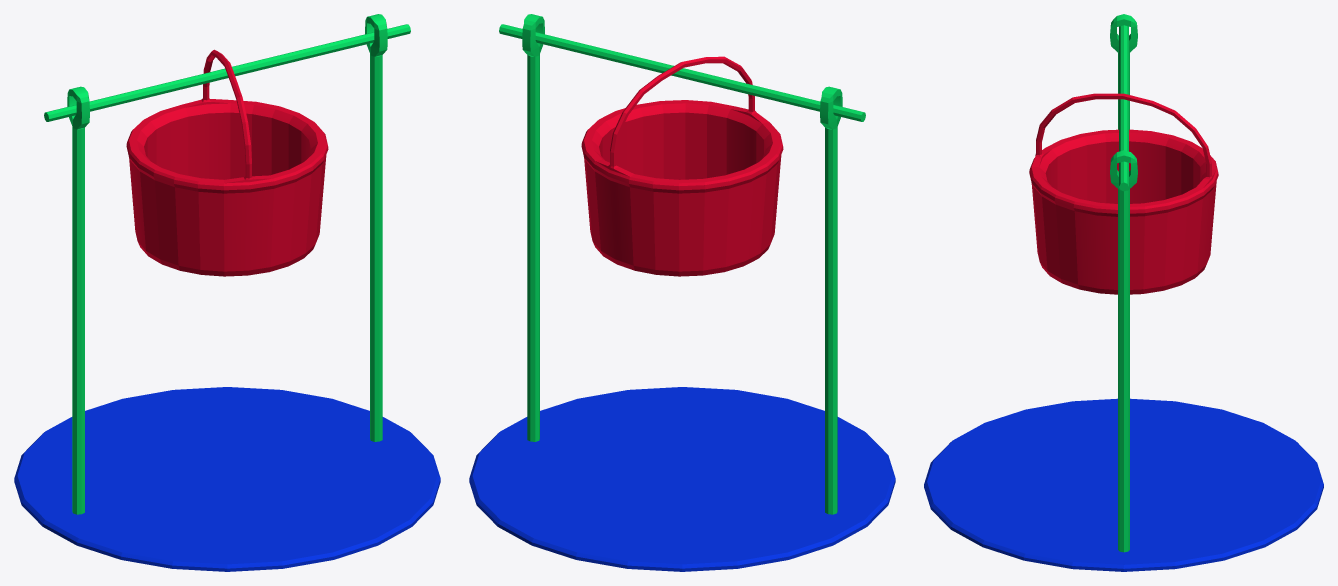
The model's file is feuerstelle.fbx.
The picture shows the model from 3 angles, left to right: view 1: azimuth 30°, elevation 25°; view 2: azimuth 150°, elevation 25°; view 3: azimuth 270°, elevation 25°; orthographic projection. The views are drawn at different scales.
Visible parts, largest first — view 1: steinplatte, topf, stangeseite2, stangeseite1, stangeoben; view 2: steinplatte, topf, stangeseite2, stangeseite1, stangeoben; view 3: steinplatte, topf, stangeseite1, stangeoben, stangeseite2.
Part boxes in pixels (x1,y1,x2,y2): steinplatte: (14, 387, 440, 571); topf: (126, 49, 328, 276); stangeseite2: (67, 86, 89, 514); stangeseite1: (365, 14, 387, 441); stangeoben: (44, 24, 410, 121); steinplatte: (469, 387, 895, 571); topf: (581, 56, 783, 276); stangeseite2: (820, 86, 842, 514); stangeseite1: (522, 14, 544, 441); stangeoben: (499, 24, 865, 121); steinplatte: (924, 398, 1323, 571); topf: (1029, 93, 1218, 294); stangeseite1: (1110, 150, 1137, 552); stangeoben: (1119, 25, 1128, 191); stangeseite2: (1110, 14, 1137, 129).
Size of the model in its own units: 124 by 138 by 124.
